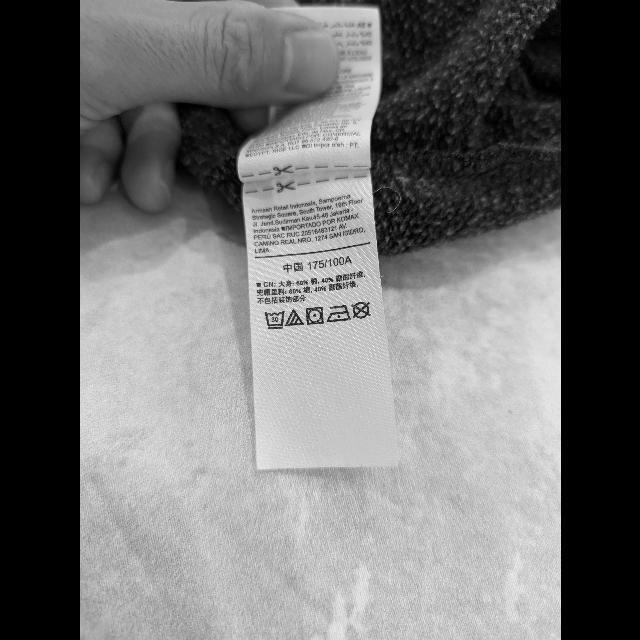30C: (262, 310, 284, 330)
DN_dry_clean: (351, 301, 371, 319)
iron_low: (325, 304, 351, 324)
non_chlorine_bleach: (284, 308, 304, 326)
tumble_dry_low: (304, 306, 324, 326)
